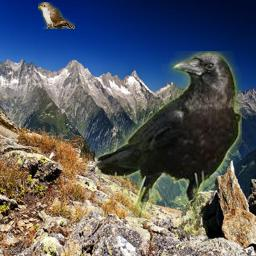Crow: (95, 51, 242, 236)
Cuckoo: (38, 2, 75, 29)
